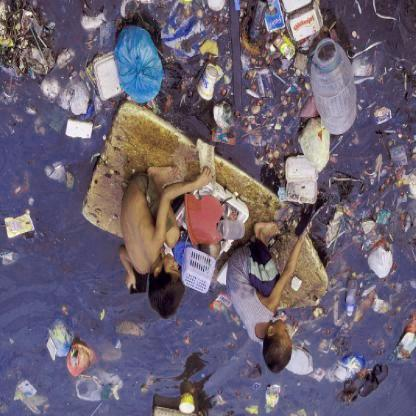Plastic: (307, 38, 359, 140), (107, 23, 165, 107), (182, 250, 216, 299), (284, 1, 320, 46), (193, 63, 219, 104), (343, 275, 356, 319)
